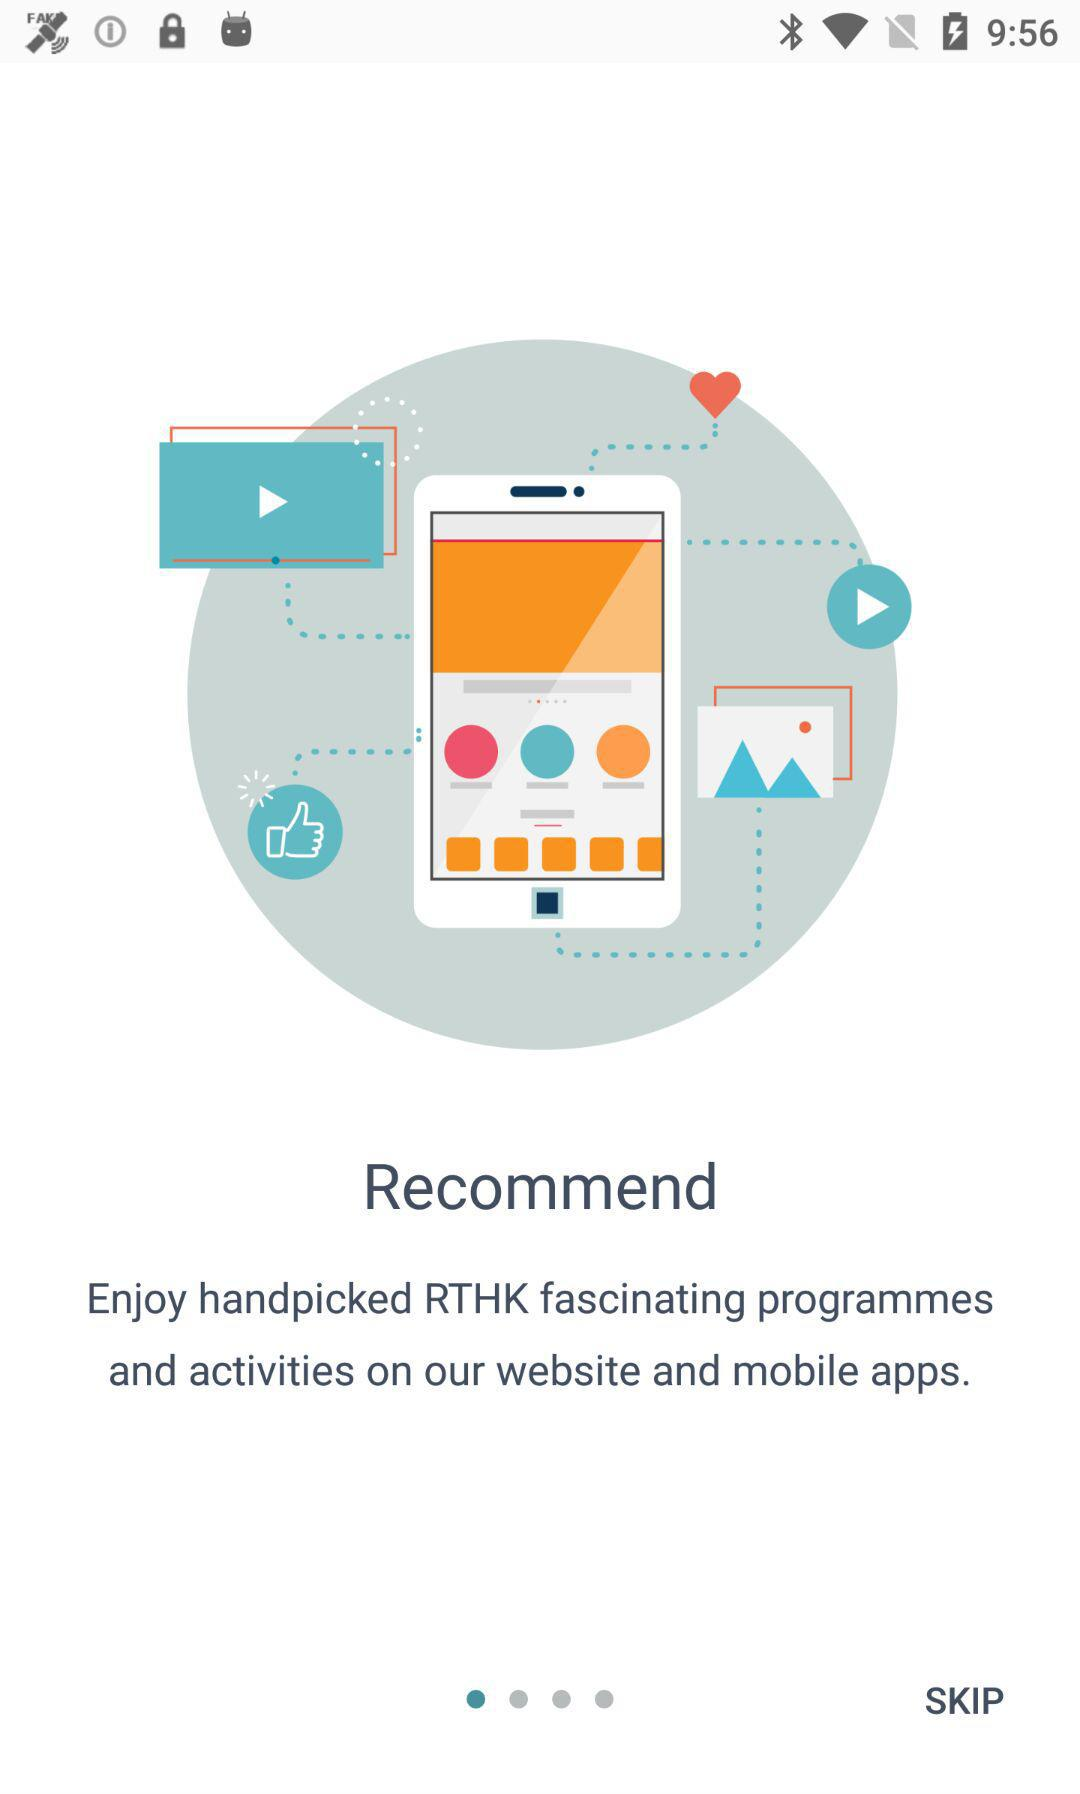Image: (158, 340, 912, 1052)
PageIndicator: (465, 1688, 615, 1709)
Text: (88, 1279, 995, 1397), (366, 1158, 717, 1214), (925, 1685, 1004, 1716)
UpperTaskBar: (1, 1, 1080, 64)
